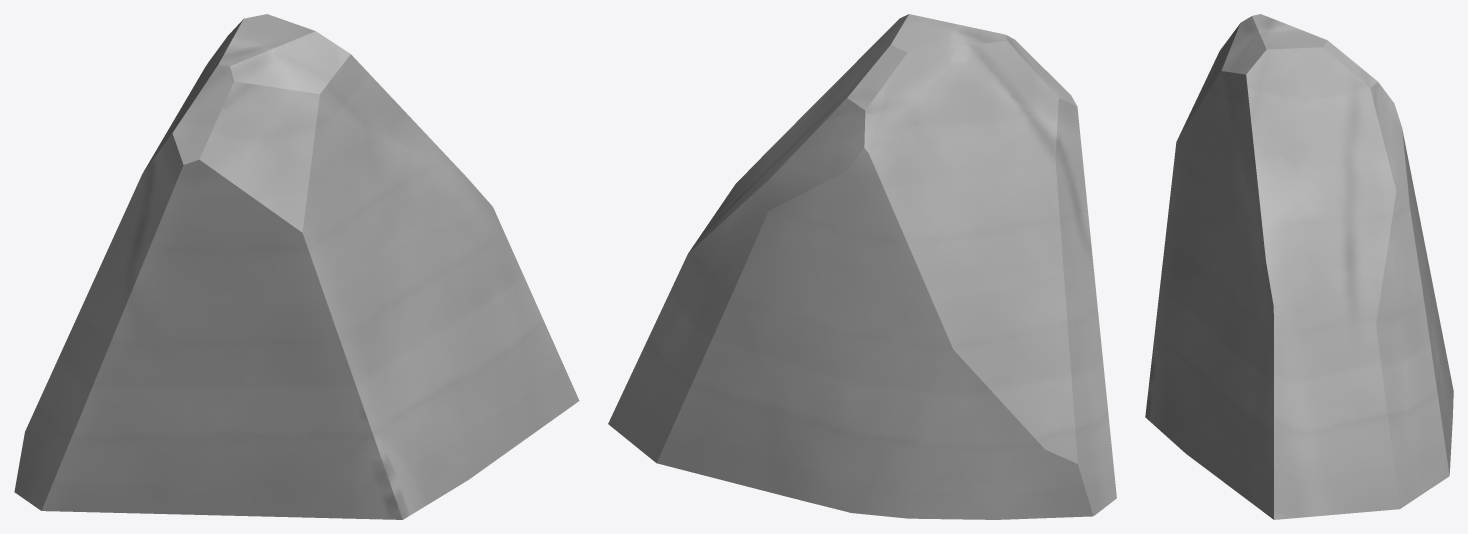
The model's file is sculpted_stone_06.glb.
3 views of the same model, side by side, from view 1: azimuth 30°, elevation 25°; view 2: azimuth 150°, elevation 25°; view 3: azimuth 270°, elevation 25° (orthographic). The views are drawn at different scales.
Parts seen in each view (by area): view 1: sculpted_stone_06; view 2: sculpted_stone_06; view 3: sculpted_stone_06.
Part boxes in pixels (x1=…): sculpted_stone_06: x1=14, y1=14, x2=579, y2=519; sculpted_stone_06: x1=608, y1=14, x2=1116, y2=519; sculpted_stone_06: x1=1145, y1=14, x2=1453, y2=519.
Bounding box in the file's own units: 0.24 × 0.1943 × 0.1499.
Materials: 1 (1 with a texture image).
